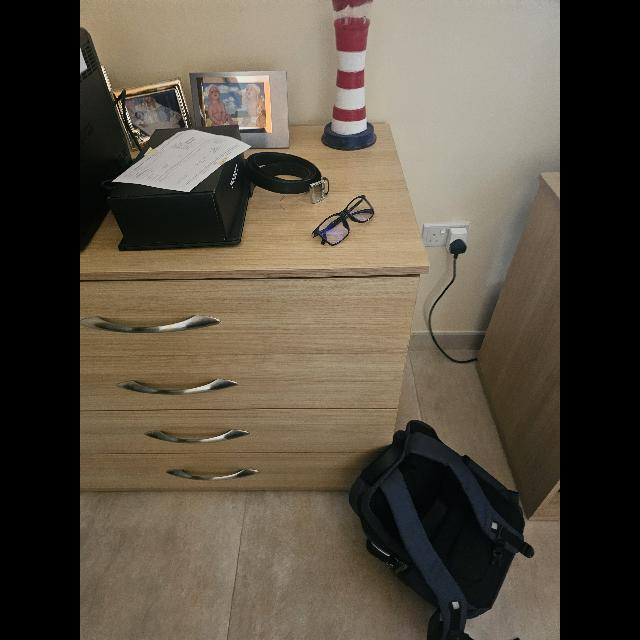glasses: (312, 194, 374, 246)
